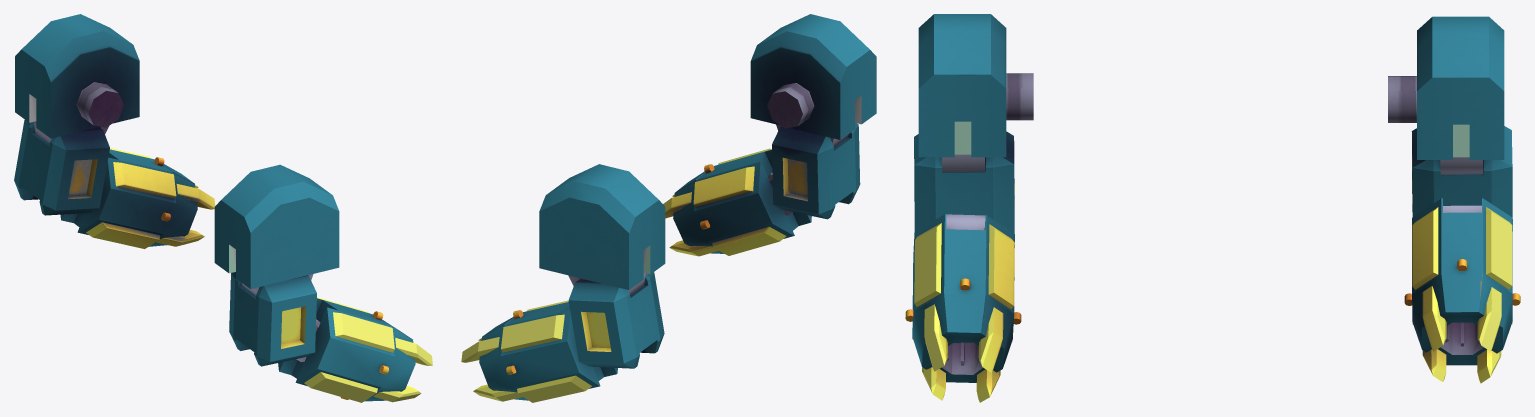
The model's file is Player_Idle10.obj.
3 renders of one model, left to right at view 1: azimuth 30°, elevation 25°; view 2: azimuth 150°, elevation 25°; view 3: azimuth 270°, elevation 25°, orthographic. The views are drawn at different scales.
Visible parts, largest first — view 1: Object003, Object005, Object001, Object007, Object006, Object002; view 2: Object003, Object005, Object001, Object007, Object006, Object002; view 3: Object001, Object007, Object003, Object005, Object002, Object006.
Boxes of the visible parts, x1,y1,x2,y2 form: Object003: (214,164,339,289); Object005: (15,14,139,138); Object001: (278,297,432,402); Object007: (60,148,215,248); Object006: (14,120,109,215); Object002: (229,272,316,366); Object003: (750,14,876,139); Object005: (539,164,665,289); Object001: (663,148,811,256); Object007: (461,300,617,402); Object006: (568,272,664,368); Object002: (772,123,860,219); Object001: (905,214,1021,402); Object007: (1404,198,1520,383); Object003: (918,14,1033,157); Object005: (1388,16,1504,159); Object002: (914,131,1014,233); Object006: (1411,126,1512,231).
Size of the model in its own units: 36.76 by 45.61 by 83.7.
Materials: 1 (1 with a texture image).
